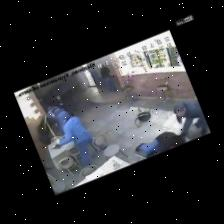person: (55, 112, 92, 167), (135, 132, 186, 158), (173, 101, 208, 136), (100, 65, 115, 91)
